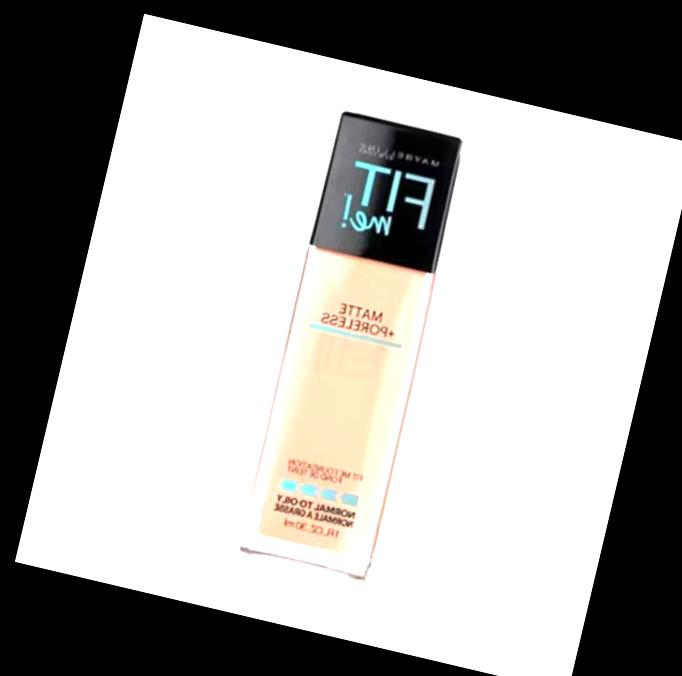cosmetic: (233, 108, 464, 588)
